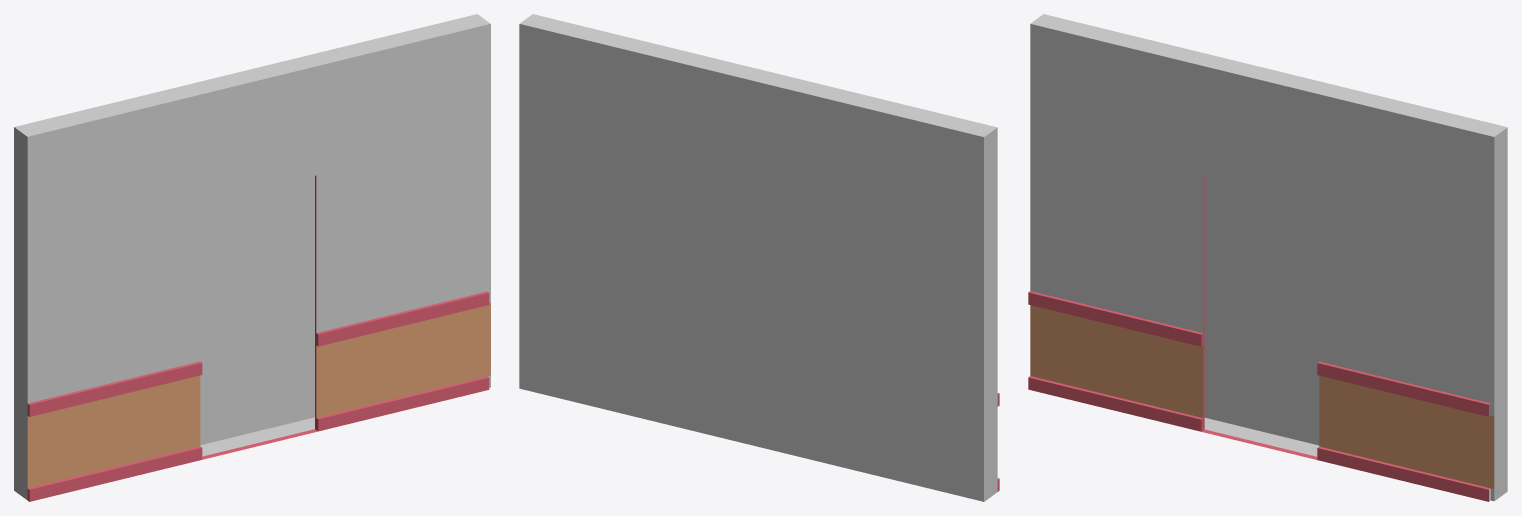
File: SM_Wall_EndCapWithDoorway.fbx
The picture shows the model from 3 angles, left to right: view 1: azimuth 30°, elevation 25°; view 2: azimuth 150°, elevation 25°; view 3: azimuth 330°, elevation 25°; orthographic projection.
Visible parts, largest first — view 1: Wall_EndCapWithDoorway; view 2: Wall_EndCapWithDoorway; view 3: Wall_EndCapWithDoorway.
Boxes of the visible parts, x1,y1,x2,y2 form: Wall_EndCapWithDoorway: [14, 14, 490, 501]; Wall_EndCapWithDoorway: [519, 14, 999, 501]; Wall_EndCapWithDoorway: [1028, 14, 1507, 501].
Bounding box in the file's own units: 400 × 300 × 23.
